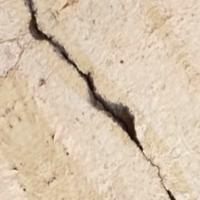crack: (18, 0, 156, 156)
